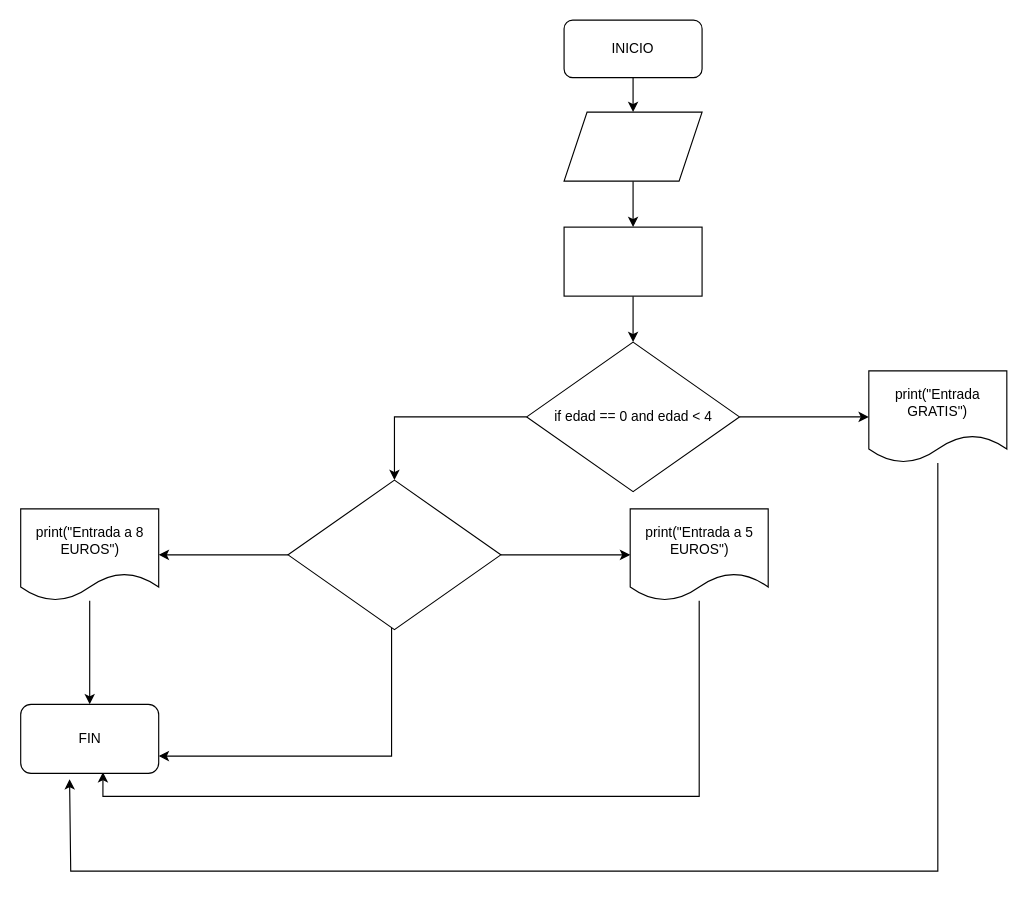
Some shapes in this 1027 by 900 pixel diagram are drawn without their labels. Each missing label, with the centre of its shape:
edad: [632,146]
edad = int(input("Ingrese su edad"): [632,261]
elif edad == 4 and edad < = 18: [394,554]
